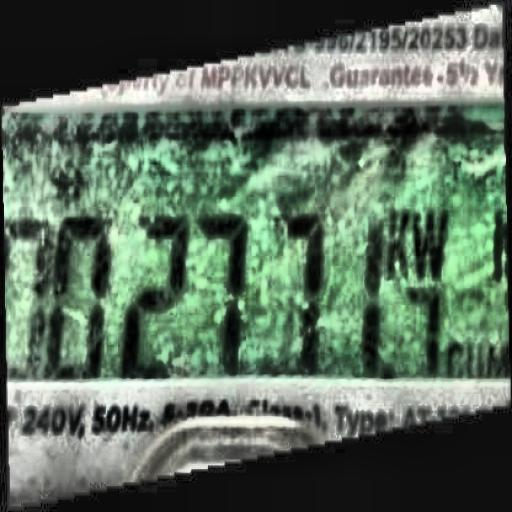DISPLAY_REGION: (2, 99, 511, 388)
SERIAL_REGION: (18, 204, 466, 371)
